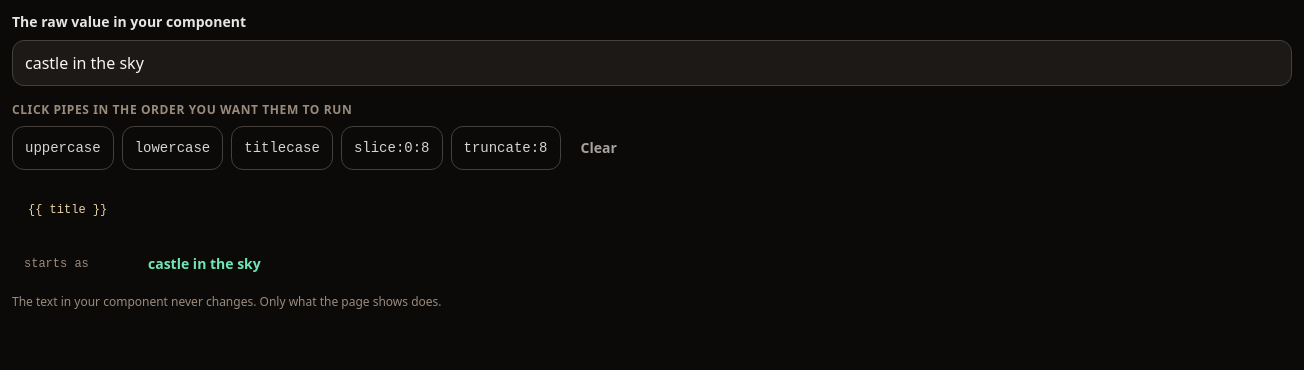
Test: PipeChainDemoComponent › runs the chain on whatever is typed
Click the button "uppercase".
click(63, 148)  # box [12,126,114,170]
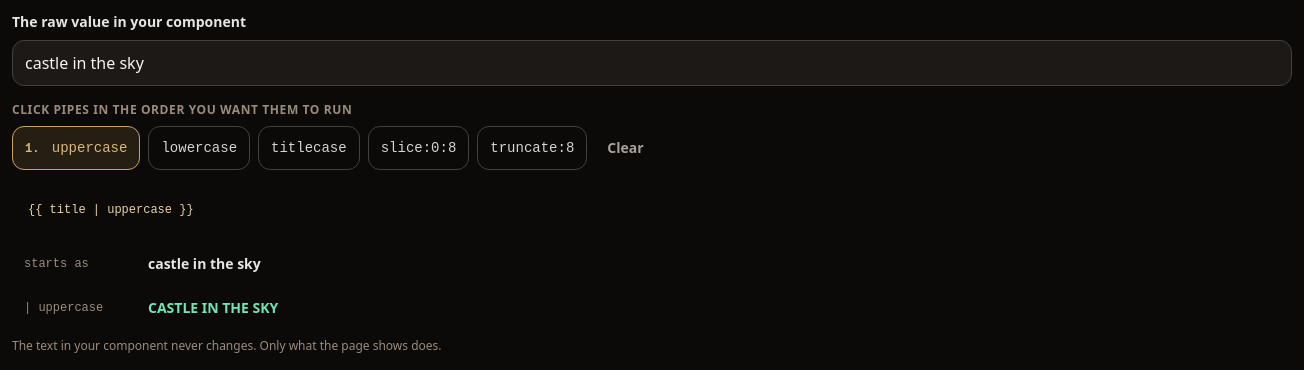
Replace the text in the field with test id "chain-input" with "totoro" at (652, 63), box [12,40,1292,86]
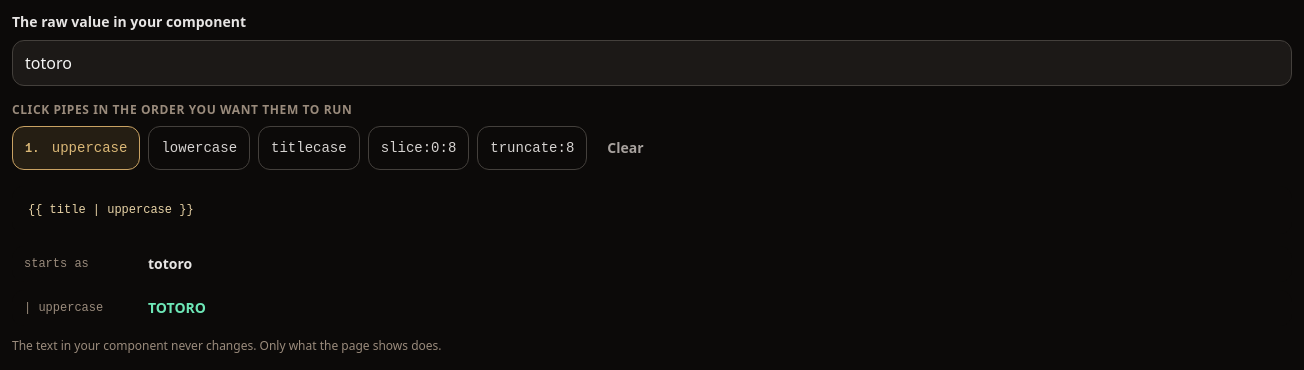
Result: the text "TOTORO" is shown at [148,298,206,318]
